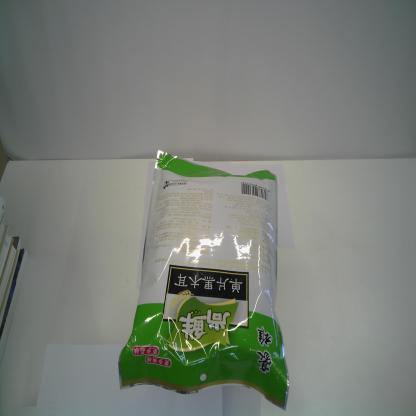Dried Food: (116, 147, 290, 413)
